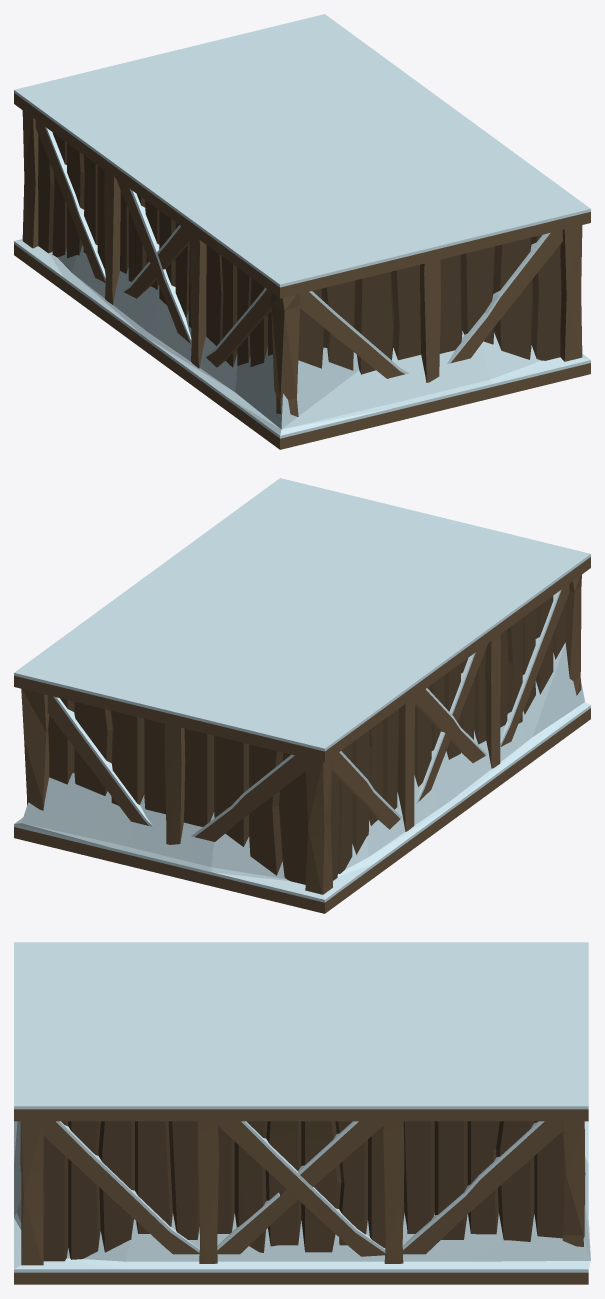
Rendered from Base_Larga02.glb.
3 renders of one model, top to bottom at view 1: azimuth 30°, elevation 25°; view 2: azimuth 150°, elevation 25°; view 3: azimuth 270°, elevation 25°, orthographic. The views are drawn at different scales.
Parts seen in each view (by area): view 1: SM_Bld_Base_Long_02_Snow; view 2: SM_Bld_Base_Long_02_Snow; view 3: SM_Bld_Base_Long_02_Snow.
Part boxes in pixels (<box>): SM_Bld_Base_Long_02_Snow: <box>14,14,590,449</box>; SM_Bld_Base_Long_02_Snow: <box>14,478,590,913</box>; SM_Bld_Base_Long_02_Snow: <box>14,942,590,1284</box>.
Bounding box in the file's own units: 4.57 × 2.32 × 6.81.
1 material, 1 textured.
